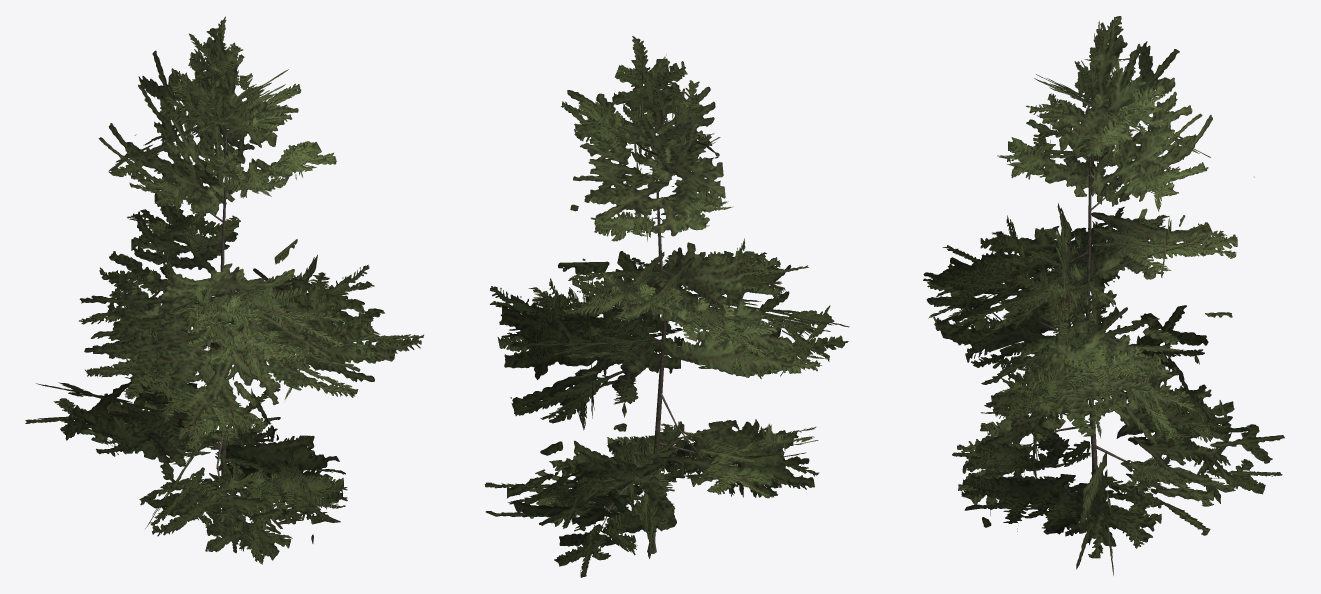
The model's file is tree.gltf.
The picture shows the model from 3 angles, left to right: view 1: azimuth 30°, elevation 25°; view 2: azimuth 150°, elevation 25°; view 3: azimuth 270°, elevation 25°; orthographic projection.
Visible parts, largest first — view 1: fir_sapling_far, fir_sapling; view 2: fir_sapling_far, fir_sapling; view 3: fir_sapling_far, fir_sapling.
Part boxes in pixels (box(x1,y1,x2,y2)): fir_sapling_far: box(36, 28, 410, 560); fir_sapling: box(25, 16, 423, 564); fir_sapling_far: box(485, 49, 849, 558); fir_sapling: box(485, 36, 848, 577); fir_sapling_far: box(923, 26, 1284, 569); fir_sapling: box(923, 16, 1282, 575).
Size of the model in its own units: 0.9462 by 1.32 by 0.8955.
2 materials, 2 textured.
